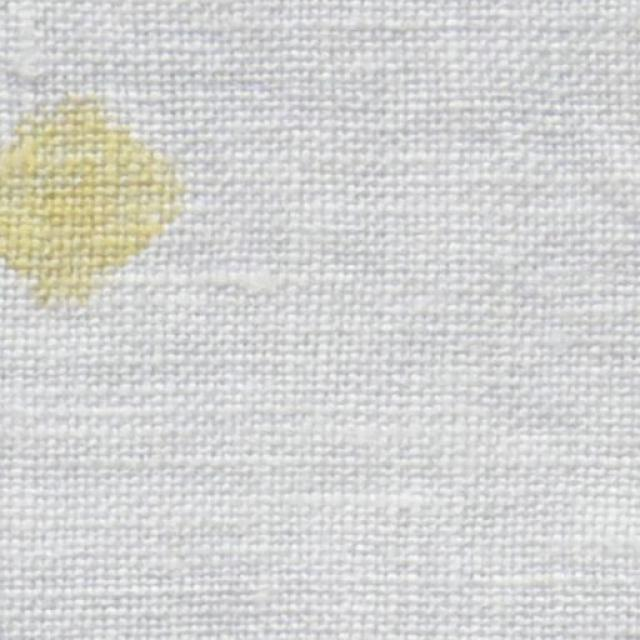Stain: (0, 96, 185, 318)
